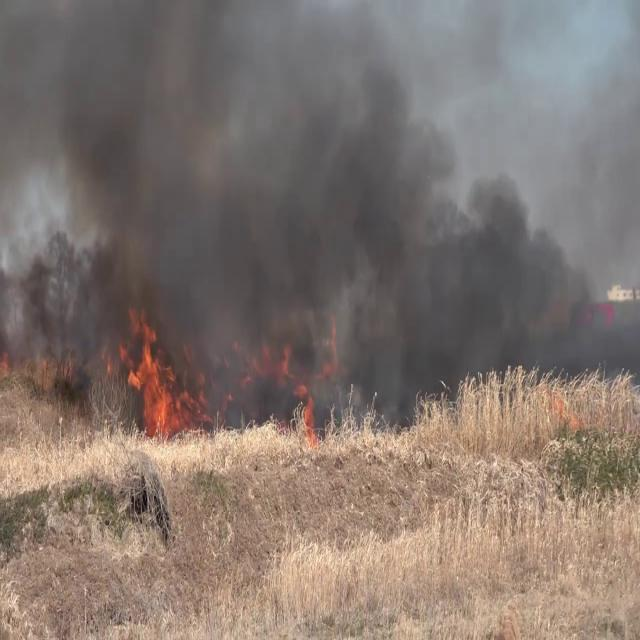Fire: (120, 307, 204, 438)
Smoke: (0, 0, 638, 422)
